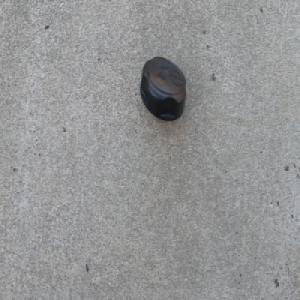FuelCap: (138, 55, 187, 125)
